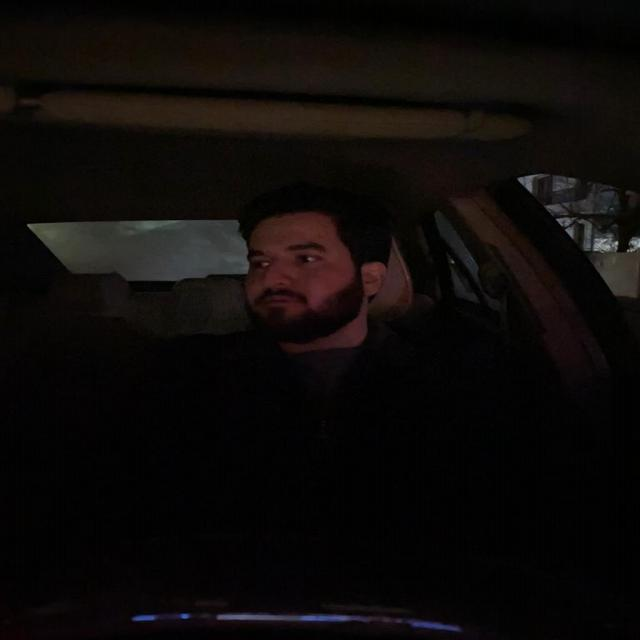person: (225, 196, 384, 326)
